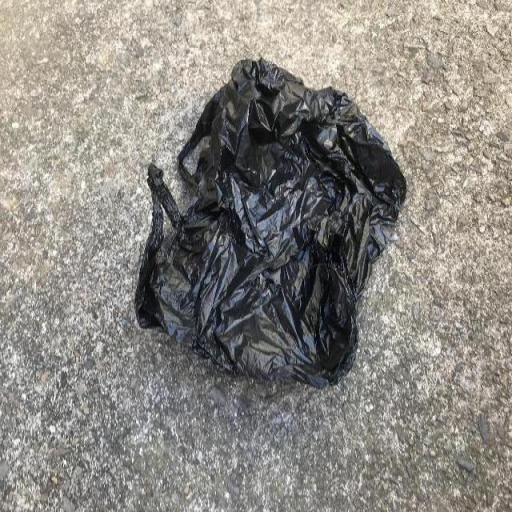plastic-bag: (130, 53, 410, 392)
